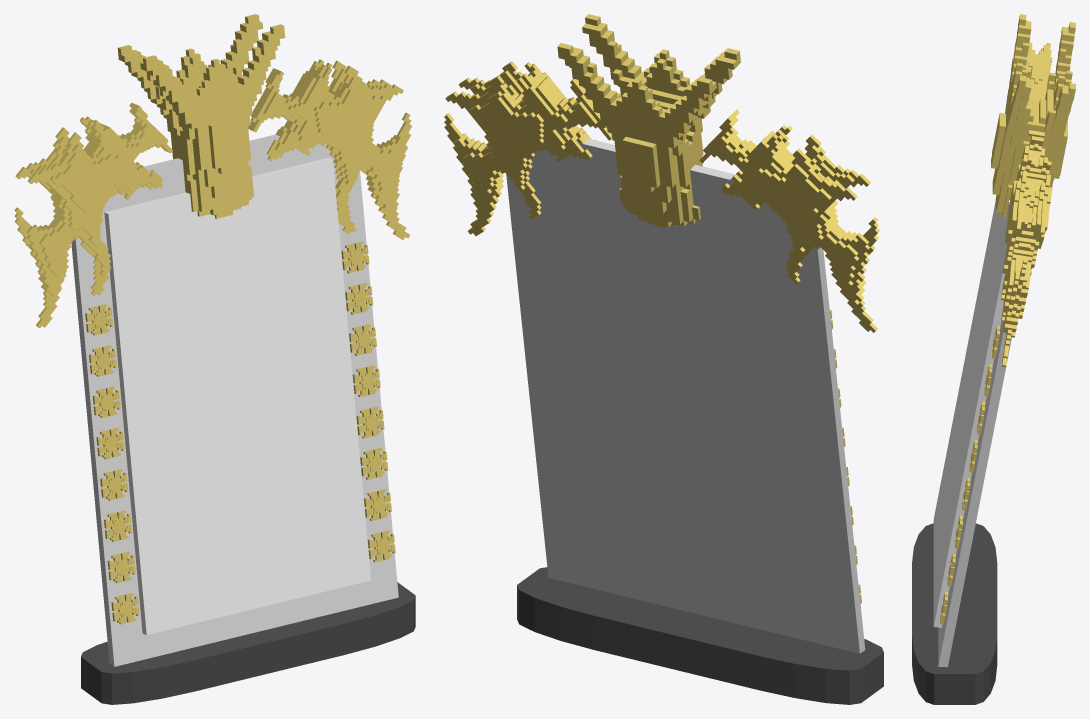
The model's file is mirror.glb.
3 views of the same model, side by side, from view 1: azimuth 30°, elevation 25°; view 2: azimuth 150°, elevation 25°; view 3: azimuth 270°, elevation 25° (orthographic). The views are drawn at different scales.
Visible parts, largest first — view 1: Cube, Cube.003, Cube.001, Cube.002, Cube.004, Cylinder.005, Cylinder.001, Cylinder.006, Cylinder.002, Cylinder.007, Cylinder, Cylinder.004 (+1 smaller); view 2: Cube.001, Cube.003, Cube.004, Cube.002; view 3: Cube.004, Cube, Cube.002, Cube.003, Cube.001.
Part boxes in pixels (x1,y1,x2,y2): Cube: (104,157,370,634); Cube.003: (14,59,411,327); Cube.001: (71,134,398,666); Cube.002: (117,14,285,218); Cube.004: (81,582,415,704); Cylinder.005: (104,448,388,541); Cylinder.001: (89,282,373,376); Cylinder.006: (107,489,391,583); Cylinder.002: (92,324,376,417); Cylinder.007: (111,530,395,624); Cylinder: (85,241,369,335); Cylinder.004: (100,406,384,500); Cube.001: (506,138,865,653); Cube.003: (444,61,879,332); Cube.004: (517,567,883,704); Cube.002: (557,14,740,227); Cube.004: (912,523,997,704); Cube: (933,200,1009,627); Cube.002: (991,14,1075,218); Cube.003: (1001,42,1052,367); Cube.001: (938,317,1011,666).
Bounding box in the file's own units: 10.59 × 15.09 × 3.85.
